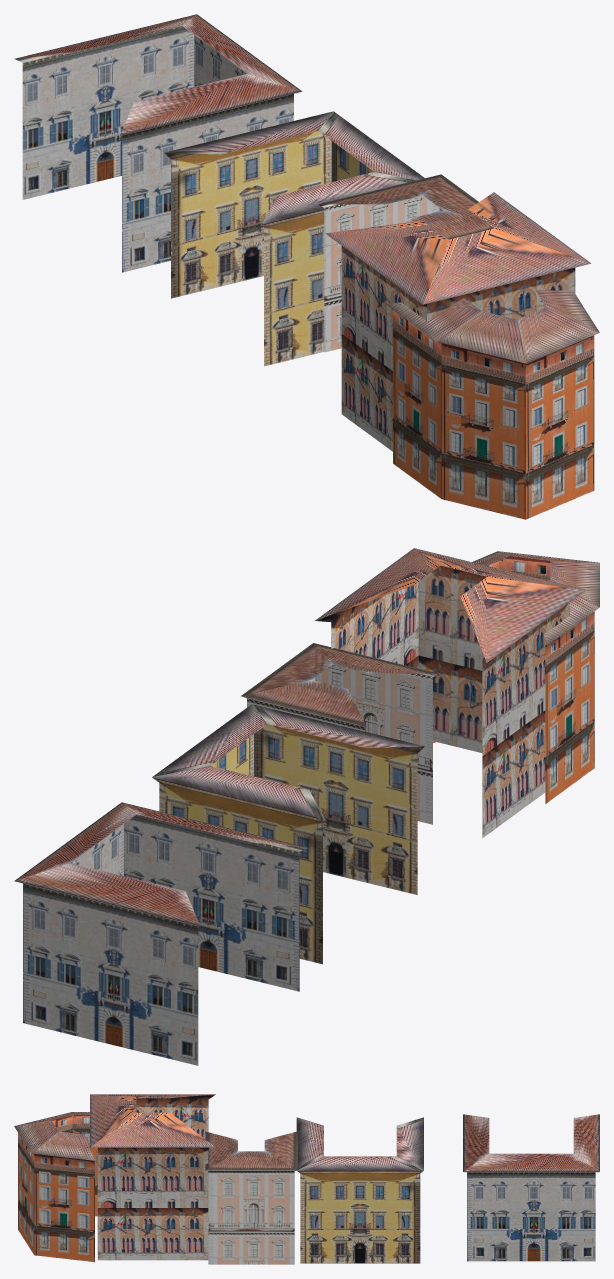
Rendered from building4.fbx.
3 renders of one model, top to bottom at view 1: azimuth 30°, elevation 25°; view 2: azimuth 150°, elevation 25°; view 3: azimuth 270°, elevation 25°, orthographic. The views are drawn at different scales.
Visible parts, largest first — view 1: pasted__pPlane21, pasted__pPlane20, pasted__pPlane18, pasted__pPlane3, pasted__pPlane19; view 2: pasted__pPlane20, pasted__pPlane3, pasted__pPlane18, pasted__pPlane19, pasted__pPlane21; view 3: pasted__pPlane3, pasted__pPlane20, pasted__pPlane18, pasted__pPlane19, pasted__pPlane21.
Boxes of the visible parts, box(x1,y1,x2,y2) form: pasted__pPlane21: box(385, 290, 599, 519); pasted__pPlane20: box(14, 14, 302, 272); pasted__pPlane18: box(164, 111, 424, 366); pasted__pPlane3: box(325, 192, 591, 451); pasted__pPlane19: box(318, 174, 490, 352); pasted__pPlane20: box(14, 802, 307, 1065); pasted__pPlane3: box(315, 548, 585, 838); pasted__pPlane18: box(152, 704, 424, 964); pasted__pPlane19: box(241, 643, 438, 824); pasted__pPlane21: box(433, 551, 599, 803); pasted__pPlane3: box(90, 1094, 215, 1260); pasted__pPlane20: box(463, 1114, 599, 1261); pasted__pPlane18: box(296, 1117, 423, 1263); pasted__pPlane19: box(205, 1131, 297, 1264); pasted__pPlane21: box(14, 1112, 97, 1262).
Bounding box in the file's own units: 3340 × 3450 × 13470.
